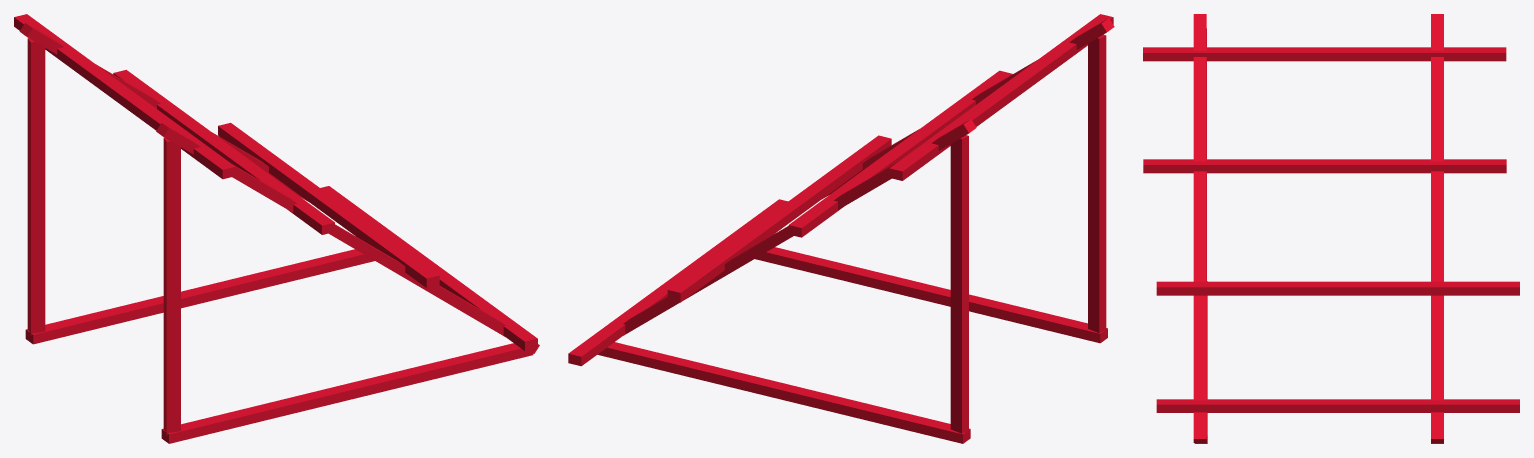
Rendered from rak.fbx.
The picture shows the model from 3 angles, left to right: view 1: azimuth 30°, elevation 25°; view 2: azimuth 150°, elevation 25°; view 3: azimuth 270°, elevation 25°; orthographic projection. The views are drawn at different scales.
Parts seen in each view (by area): view 1: Kubus, Kubus.003, Kubus.001, Kubus.002, Kubus.008, Kubus.009, Kubus.005, Kubus.007, Kubus.006, Kubus.004; view 2: Kubus.001, Kubus, Kubus.002, Kubus.003, Kubus.008, Kubus.009, Kubus.007, Kubus.004, Kubus.006, Kubus.005; view 3: Kubus.008, Kubus.005, Kubus.007, Kubus.009, Kubus.006, Kubus.004.
Boxes of the visible parts, x1,y1,x2,y2 form: Kubus: (161, 343, 533, 443); Kubus.003: (27, 38, 45, 335); Kubus.001: (25, 249, 374, 344); Kubus.002: (163, 137, 180, 435); Kubus.008: (218, 122, 439, 287); Kubus.009: (14, 14, 235, 179); Kubus.005: (156, 123, 539, 353); Kubus.007: (113, 69, 334, 234); Kubus.006: (320, 186, 537, 350); Kubus.004: (19, 23, 308, 201); Kubus.001: (597, 342, 970, 443); Kubus: (755, 247, 1107, 343); Kubus.002: (1088, 34, 1106, 332); Kubus.003: (950, 135, 968, 433); Kubus.008: (667, 135, 891, 302); Kubus.009: (889, 14, 1113, 180); Kubus.007: (788, 70, 1012, 237); Kubus.004: (623, 119, 976, 335); Kubus.006: (568, 199, 787, 366); Kubus.005: (823, 18, 1114, 198); Kubus.008: (1156, 281, 1519, 295); Kubus.005: (1193, 14, 1206, 442); Kubus.007: (1143, 159, 1506, 173); Kubus.009: (1143, 47, 1506, 61); Kubus.006: (1156, 399, 1519, 412); Kubus.004: (1431, 14, 1443, 442).
Bounding box in the file's own units: 1333 × 1070 × 1328.
